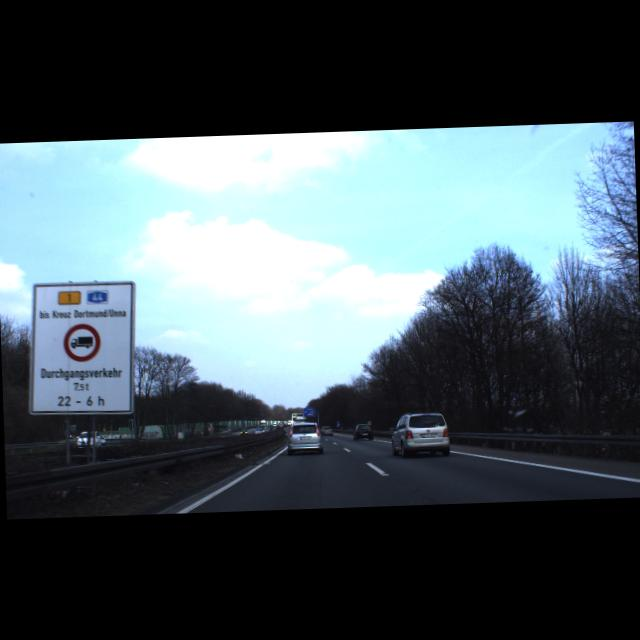prohibitory: (62, 323, 100, 362)
